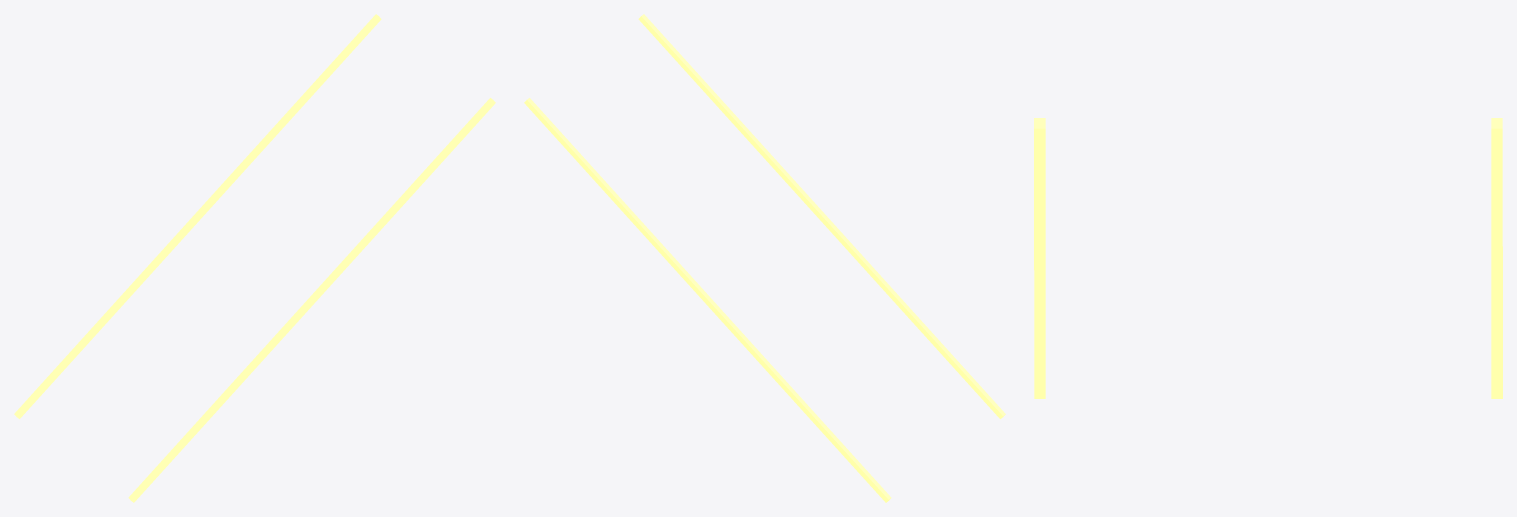
Rendered from 2 green lasers beams.glb.
3 views of the same model, side by side, from view 1: azimuth 30°, elevation 25°; view 2: azimuth 150°, elevation 25°; view 3: azimuth 270°, elevation 25° (orthographic). The views are drawn at different scales.
Visible parts, largest first — view 1: 2 green lasers beams; view 2: 2 green lasers beams; view 3: 2 green lasers beams.
Boxes of the visible parts, x1,y1,x2,y2 form: 2 green lasers beams: (14,14,495,502); 2 green lasers beams: (524,14,1005,502); 2 green lasers beams: (1034,118,1502,398).
Size of the model in its own units: 9.59 by 7.93 by 5.34.
